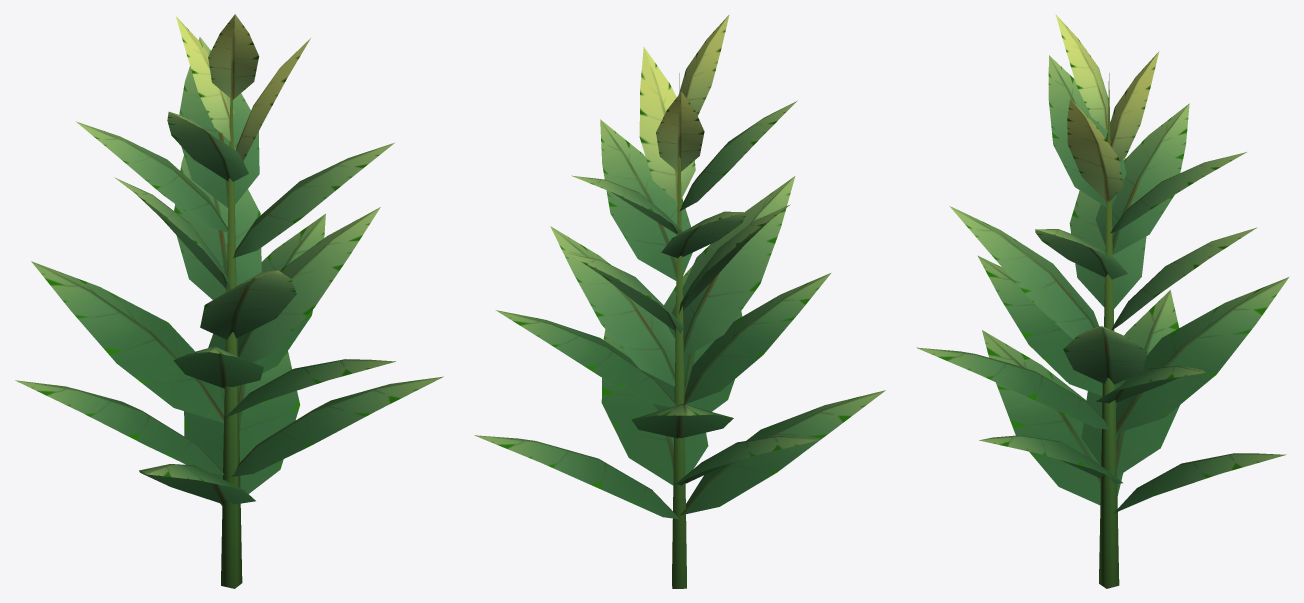
The model's file is Plant_006_Mesh_001.fbx.
3 renders of one model, left to right at view 1: azimuth 30°, elevation 25°; view 2: azimuth 150°, elevation 25°; view 3: azimuth 270°, elevation 25°, orthographic. The views are drawn at different scales.
Parts seen in each view (by area): view 1: Plant_006_Mesh_001; view 2: Plant_006_Mesh_001; view 3: Plant_006_Mesh_001.
Boxes of the visible parts, x1,y1,x2,y2 form: Plant_006_Mesh_001: (15, 14, 443, 588); Plant_006_Mesh_001: (474, 14, 885, 588); Plant_006_Mesh_001: (916, 14, 1288, 588).
Size of the model in its own units: 229 by 395 by 240.
